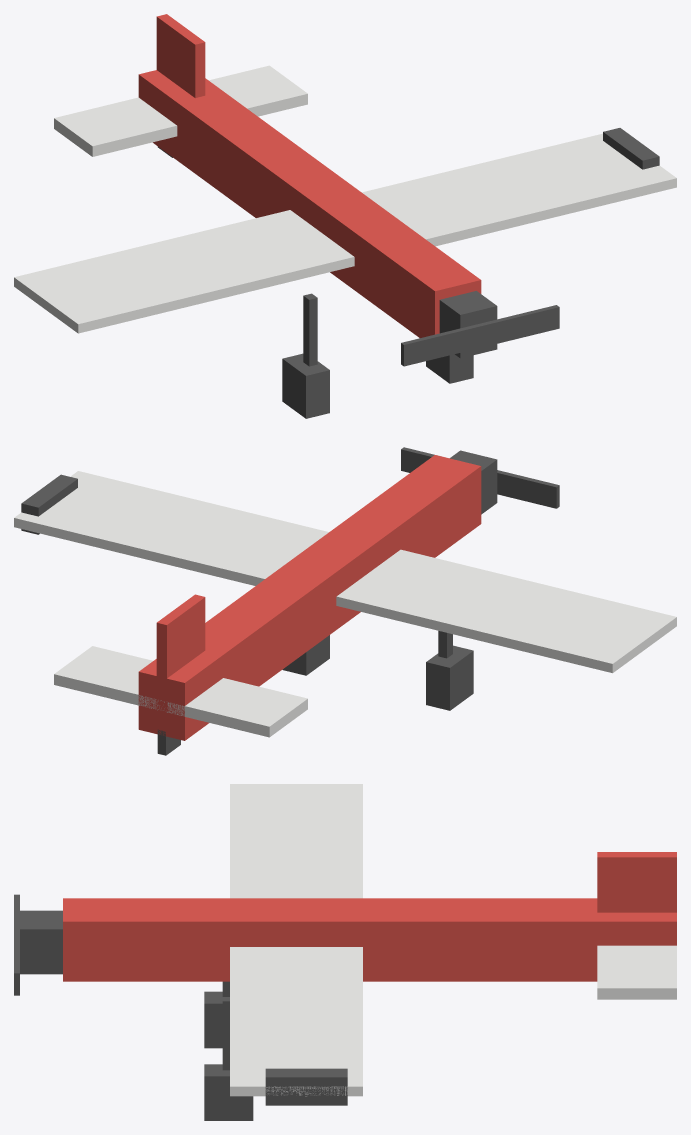
3 views of the same model, one above another, from view 1: azimuth 30°, elevation 25°; view 2: azimuth 150°, elevation 25°; view 3: azimuth 270°, elevation 25° (orthographic). The views are drawn at different scales.
Parts seen in each view (by area): view 1: racer; view 2: racer; view 3: racer.
Part boxes in pixels (<box>): racer: <box>14,14,676,418</box>; racer: <box>14,447,676,755</box>; racer: <box>14,784,676,1120</box>.
Bounding box in the file's own units: 0.7 × 0.2415 × 0.648.
